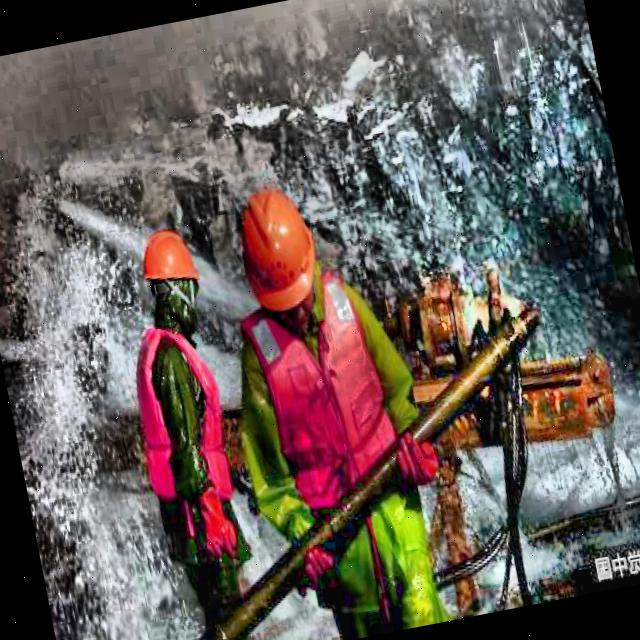helmet: (226, 178, 332, 336), (131, 221, 213, 338)
